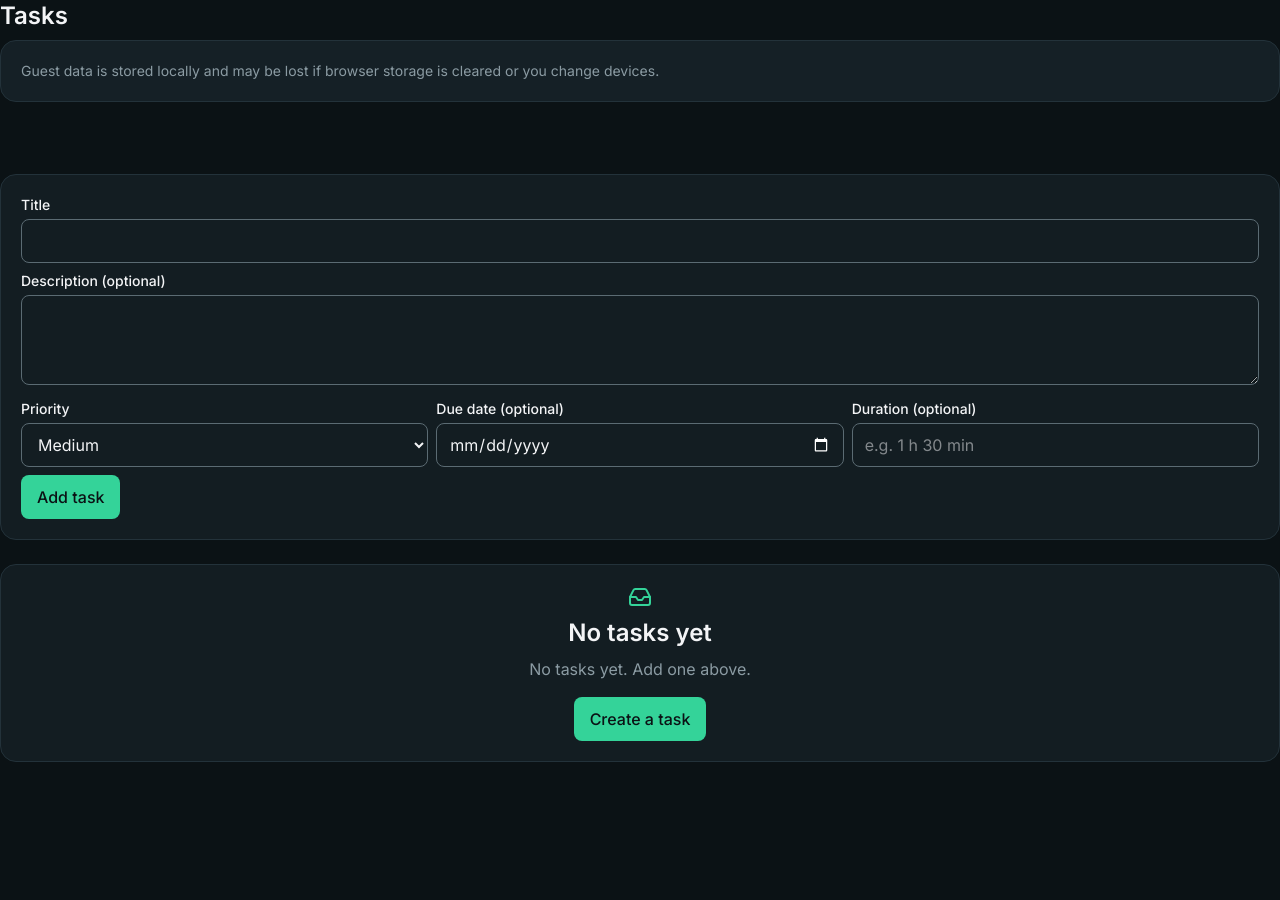
Test: create form accessibility › summarizes multiple errors and associates each field
Type "ab" into the field labelled "Title".
click(640, 241); type("ab")  # box 21,219 -> 1259,263
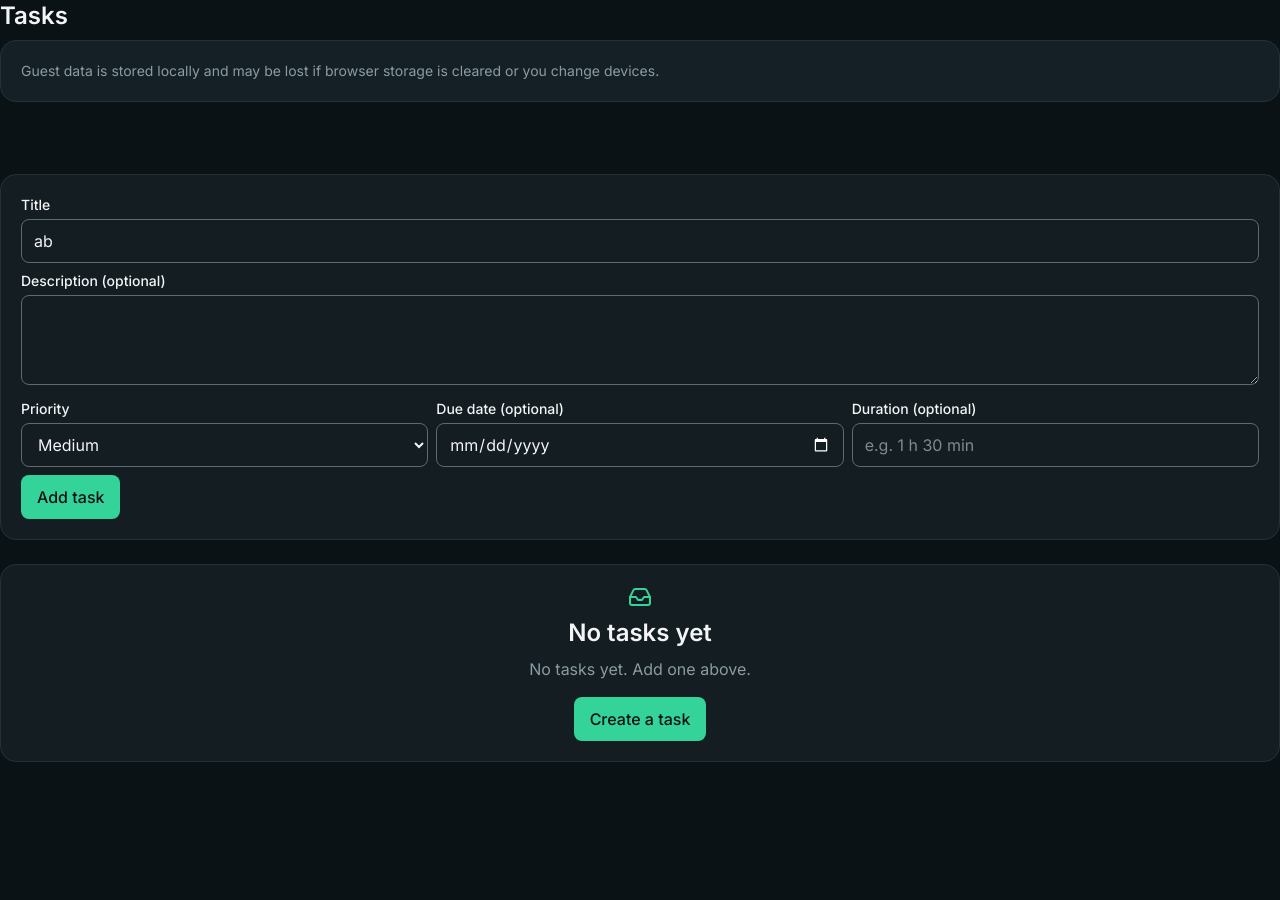
Type "30" into the field labelled "Duration (optional)".
click(1055, 445); type("30")  # box 852,423 -> 1259,467
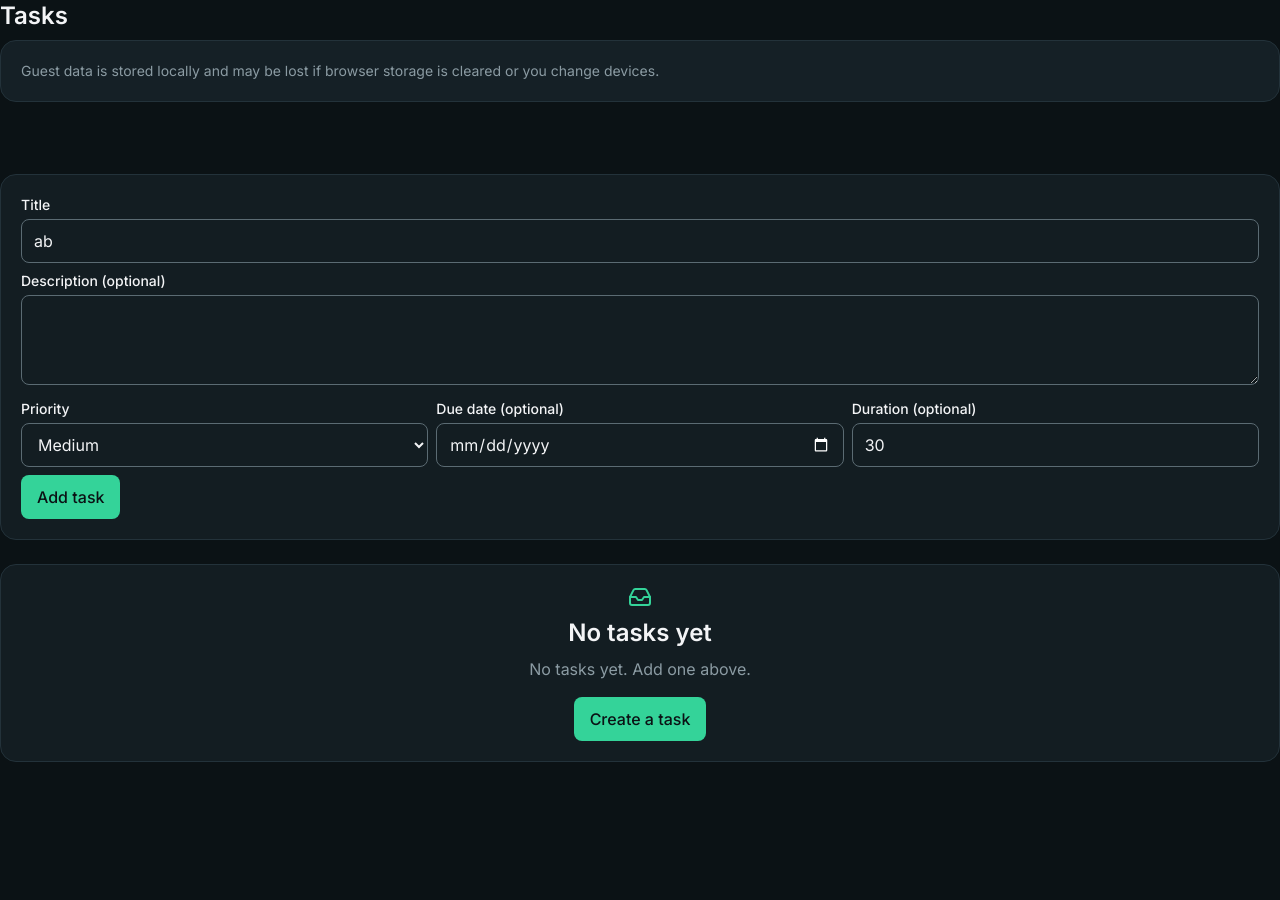
Click the button "Add task".
click(71, 497)  # box 21,475 -> 120,519
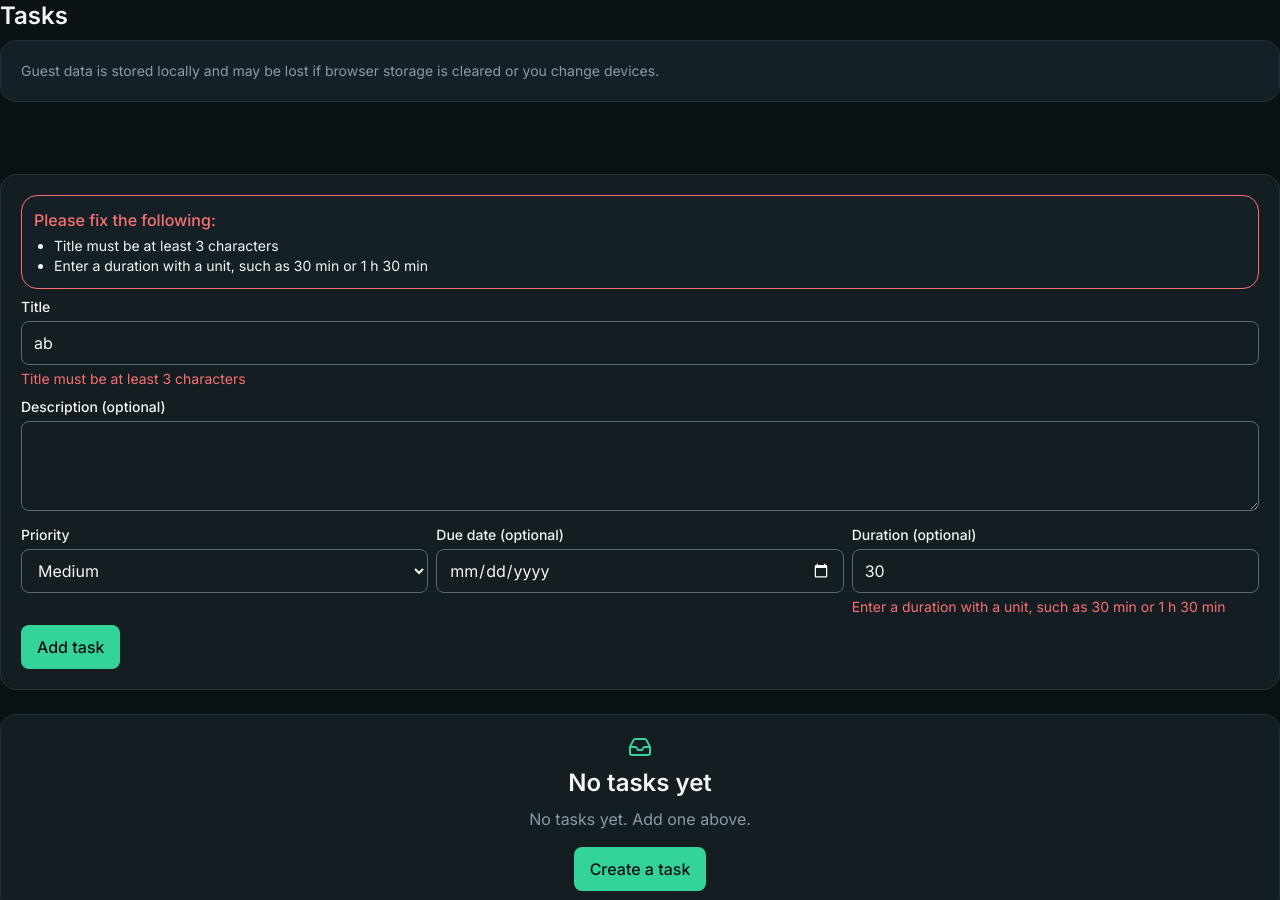
Check: the message that starts with "Please fix the following:" is shown, box 34,210 -> 216,230
Check: the list item "Title must be at least 3 characters" is shown, box 54,237 -> 279,254
Check: the list item "Enter a duration with a unit, such as 30 min or 1 h 30 min" is shown, box 54,257 -> 428,274
